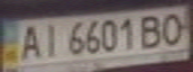0: (100, 16, 121, 53)
1: (115, 15, 139, 51)
6: (63, 18, 87, 56), (81, 17, 103, 55)
A: (15, 21, 45, 61)
B: (136, 11, 169, 50)
I: (36, 20, 63, 58)
O: (157, 9, 190, 46)
